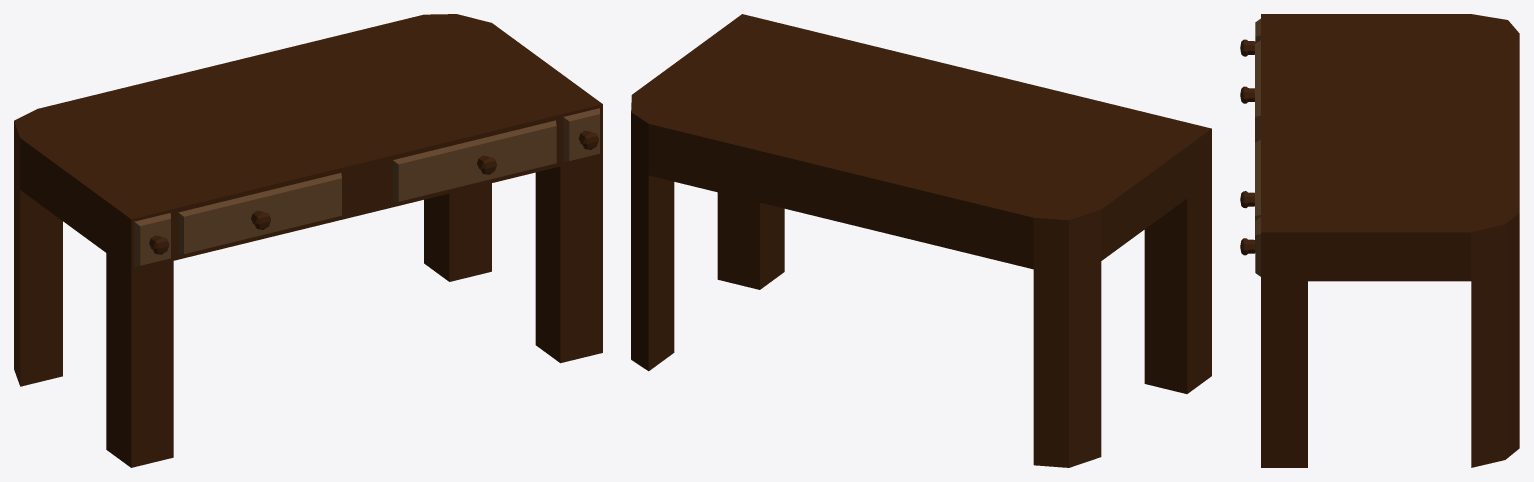
File: escritorio.fbx
3 views of the same model, side by side, from view 1: azimuth 30°, elevation 25°; view 2: azimuth 150°, elevation 25°; view 3: azimuth 270°, elevation 25° (orthographic). The views are drawn at different scales.
Visible parts, largest first — view 1: Escritorio; view 2: Escritorio; view 3: Escritorio.
Part boxes in pixels (x1,y1,x2,y2): Escritorio: [14, 14, 602, 467]; Escritorio: [631, 14, 1211, 467]; Escritorio: [1240, 14, 1519, 467].
Size of the model in its own units: 399 by 201 by 216.
